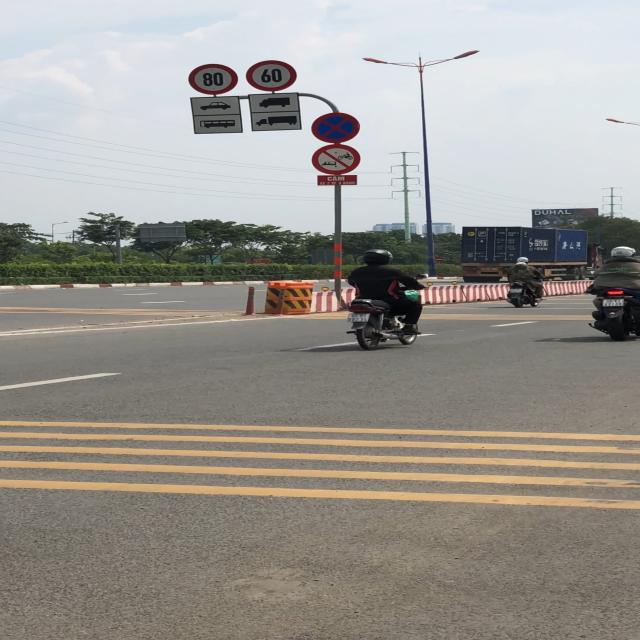Bien bao cam dung xe va do xe: (310, 111, 363, 144)
Bien bao toc do toi da cho phep: (244, 60, 304, 94), (187, 61, 240, 96)
